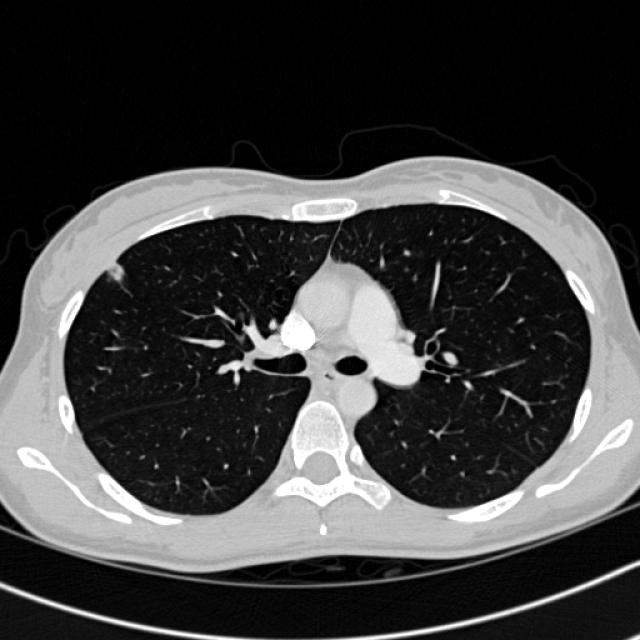nodule: (96, 254, 132, 288)
